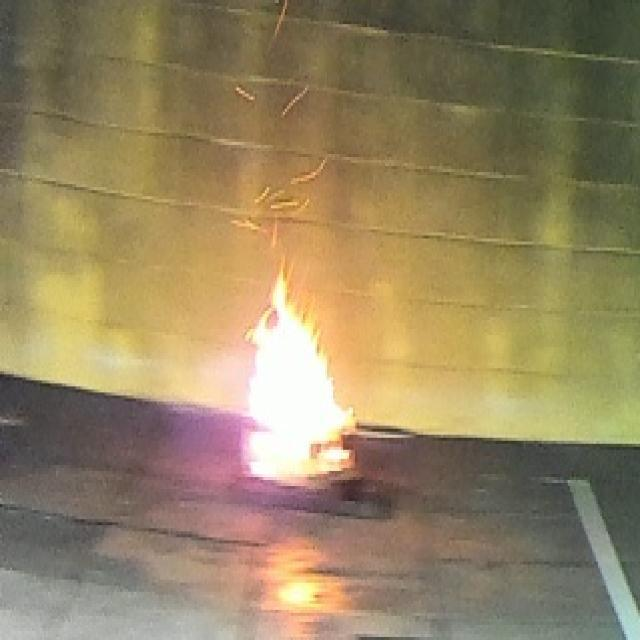Fire: (245, 254, 358, 482)
